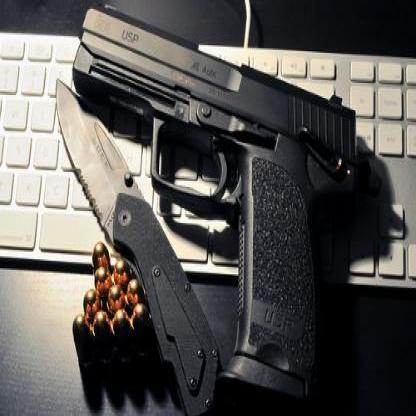pistol: (68, 0, 357, 396)
